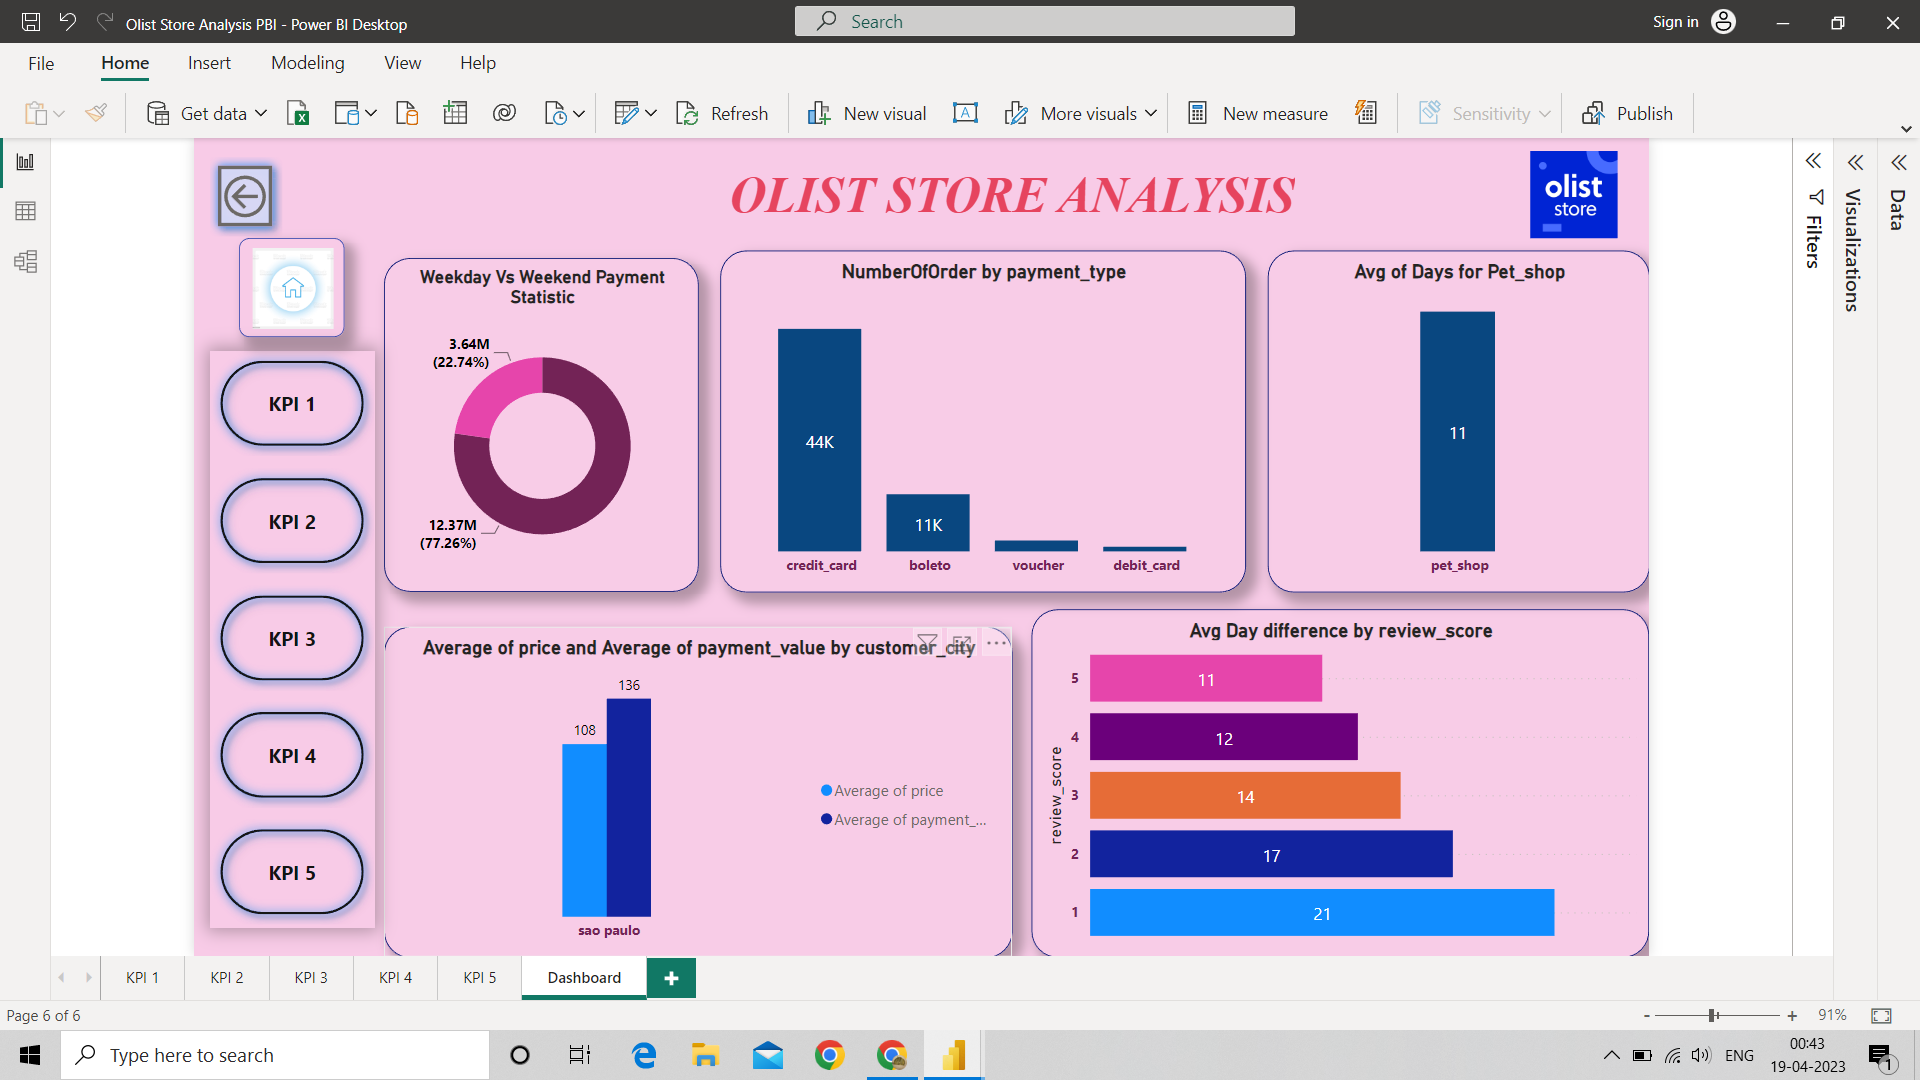

The dashboard page shown, as its layout file describes it:
{"tool":"powerbi","page":{"name":"Dashboard","canvas":[1280,720],"ordinal":5},"visuals":[{"type":"donutChart","title":"Weekday Vs Weekend Payment Statistic","fields":{"Category":["olist_orders_dataset.DayOfWeekdays"],"Y":["Sum(olist_order_payments_dataset.payment_value)"]},"box":[167.4,105.7,277.2,293.7],"z":0},{"type":"clusteredColumnChart","fields":{"Y":["olist_orders_dataset.NumberOfOrder"],"Category":["olist_order_payments_dataset.payment_type"]},"box":[462.4,98.8,462.4,300.5],"z":1000},{"type":"columnChart","title":"Avg of Days for Pet_shop","fields":{"Category":["olist_products_dataset.product_category_name"],"Y":["Avg(olist_orders_dataset.Difference)"]},"box":[944.1,98.8,336.2,300.5],"z":2000},{"type":"clusteredColumnChart","fields":{"Category":["olist_customers_dataset.customer_city"],"Y":["Avg(olist_order_items_dataset.price)","Avg(olist_order_payments_dataset.payment_value)"]},"box":[167.4,429.5,553,290.9],"z":3000},{"type":"barChart","title":"Avg Day difference by review_score ","fields":{"Y":["Avg(olist_orders_dataset.Difference)"],"Category":["olist_order_reviews_dataset.review_score"],"Series":["olist_order_reviews_dataset.review_score"]},"box":[736.9,414.4,543.4,306],"z":4000},{"type":"actionButton","box":[12.3,15.1,65.9,71.4],"z":5000},{"type":"image","box":[39.3,88.3,92.6,86.9],"z":6000},{"type":"pageNavigator","box":[14,186.5,144.4,507.6],"z":7000},{"type":"shape","box":[429.5,6.9,579.1,87.8],"z":8000},{"type":"image","box":[1166.4,6.9,94.7,86.4],"z":9000}]}

Visuals, with their boxes on the page's 1280x720 design canvas (x1, y1, x2, y2). These are canvas units, not pixel positions in the 1920x1080 screenshot, which may show the page scaled, cropped or inside an application window:
"Weekday Vs Weekend Payment Statistic" donutChart: x1=167 y1=106 x2=445 y2=399
clusteredColumnChart - olist_orders_dataset.NumberOfOrder x olist_order_payments_dataset.payment_type: x1=462 y1=99 x2=925 y2=399
"Avg of Days for Pet_shop" columnChart: x1=944 y1=99 x2=1280 y2=399
clusteredColumnChart - olist_customers_dataset.customer_city x Avg(olist_order_items_dataset.price): x1=167 y1=430 x2=720 y2=720
"Avg Day difference by review_score " barChart: x1=737 y1=414 x2=1280 y2=720
actionButton: x1=12 y1=15 x2=78 y2=86
image: x1=39 y1=88 x2=132 y2=175
pageNavigator: x1=14 y1=186 x2=158 y2=694
shape: x1=430 y1=7 x2=1009 y2=95
image: x1=1166 y1=7 x2=1261 y2=93
